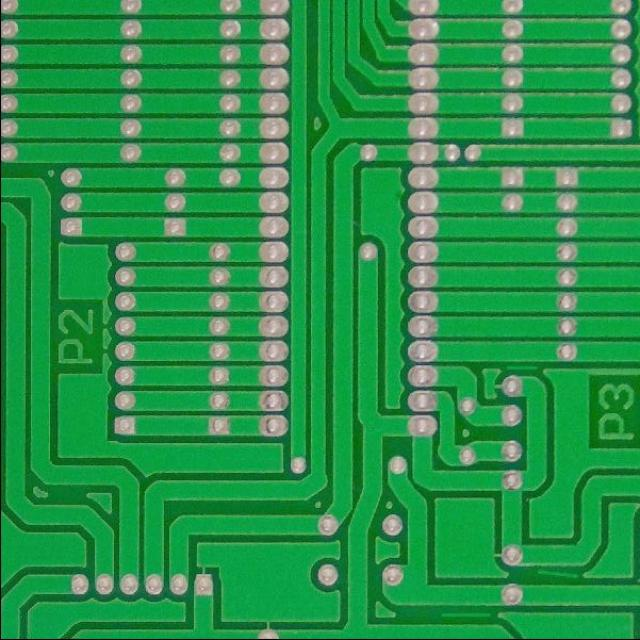Spurious_Cooper: (532, 564, 582, 582), (437, 607, 493, 622), (504, 361, 540, 372)
